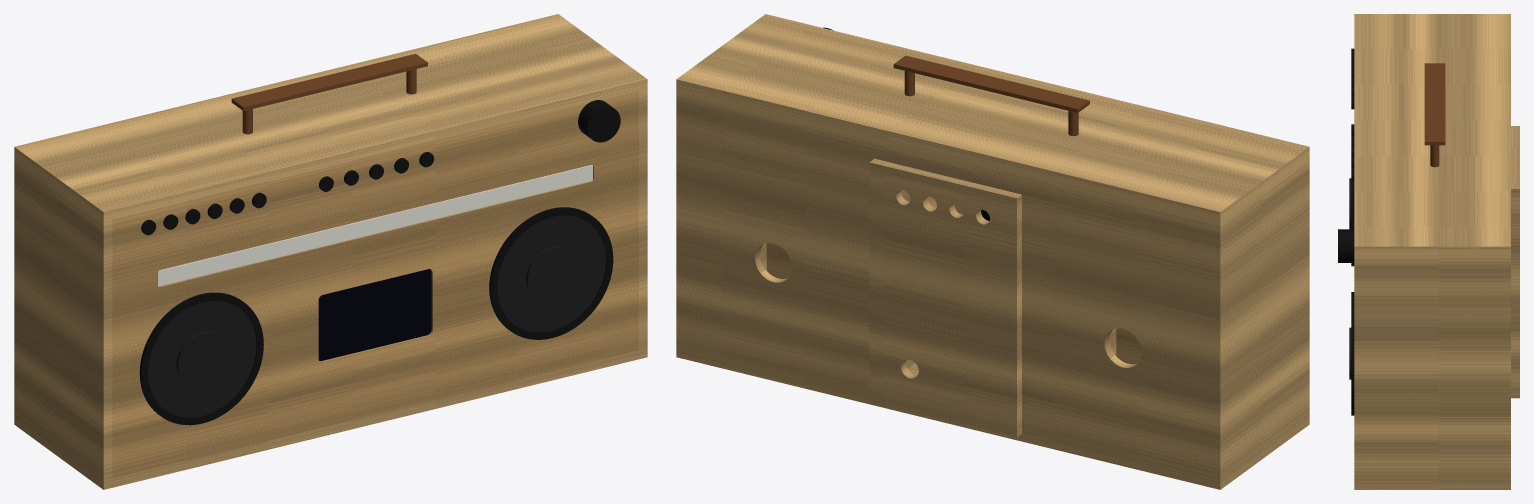
The model's file is model-wood.glb.
3 views of the same model, side by side, from view 1: azimuth 30°, elevation 25°; view 2: azimuth 150°, elevation 25°; view 3: azimuth 270°, elevation 25° (orthographic). The views are drawn at different scales.
Parts seen in each view (by area): view 1: P5_baffle, P1_top, P3_side_L, DRV_R, DRV_L, SCREEN, DIFFUSER, P2_bottom, HANDLE, RING_L, RING_R, P4_side_R (+2 smaller); view 2: P6_back, P1_top, P9_door, P3_side_L, P2_bottom, HANDLE, P4_side_R, P5_baffle; view 3: P1_top, P4_side_R, P9_door, HANDLE, P2_bottom, KNOB, RING_R, BUTTONS, RING_L.
Part boxes in pixels (box(x1,y1,x2,y2)): P5_baffle: box(112, 91, 638, 478); P1_top: box(14, 14, 647, 221); P3_side_L: box(14, 156, 112, 480); DRV_R: box(497, 215, 605, 332); DRV_L: box(148, 301, 256, 417); SCREEN: box(318, 269, 431, 361); DIFFUSER: box(157, 165, 592, 286); P2_bottom: box(14, 348, 647, 489); HANDLE: box(231, 53, 427, 134); RING_L: box(139, 292, 263, 425); RING_R: box(489, 207, 613, 339); P4_side_R: box(639, 89, 647, 349); P6_back: box(685, 91, 1211, 478); P1_top: box(676, 14, 1309, 221); P9_door: box(869, 158, 1021, 437); P3_side_L: box(1211, 156, 1309, 480); P2_bottom: box(676, 348, 1309, 489); HANDLE: box(893, 55, 1089, 135); P4_side_R: box(676, 89, 766, 349); P5_baffle: box(766, 203, 1141, 364); P1_top: box(1354, 14, 1510, 254); P4_side_R: box(1354, 254, 1510, 481); P9_door: box(1511, 126, 1519, 398); HANDLE: box(1424, 63, 1445, 167); P2_bottom: box(1354, 482, 1510, 489); KNOB: box(1338, 229, 1354, 262); RING_R: box(1351, 292, 1354, 415); BUTTONS: box(1351, 48, 1354, 180); RING_L: box(1351, 180, 1354, 266).
Size of the model in its own units: 0.738 by 0.411 by 0.244.
Materials: 8 (2 with a texture image).
